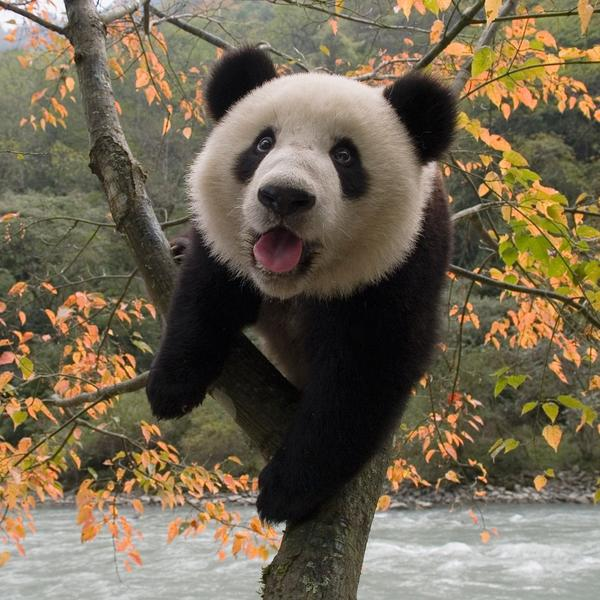panda: (125, 45, 498, 500)
